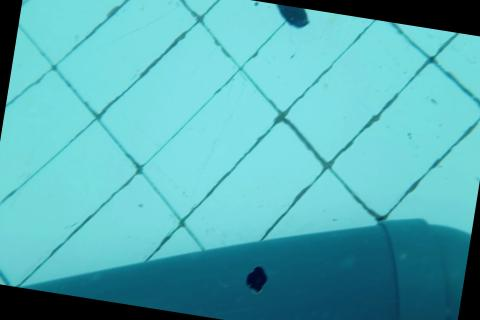kebocoran: (243, 261, 270, 294)
